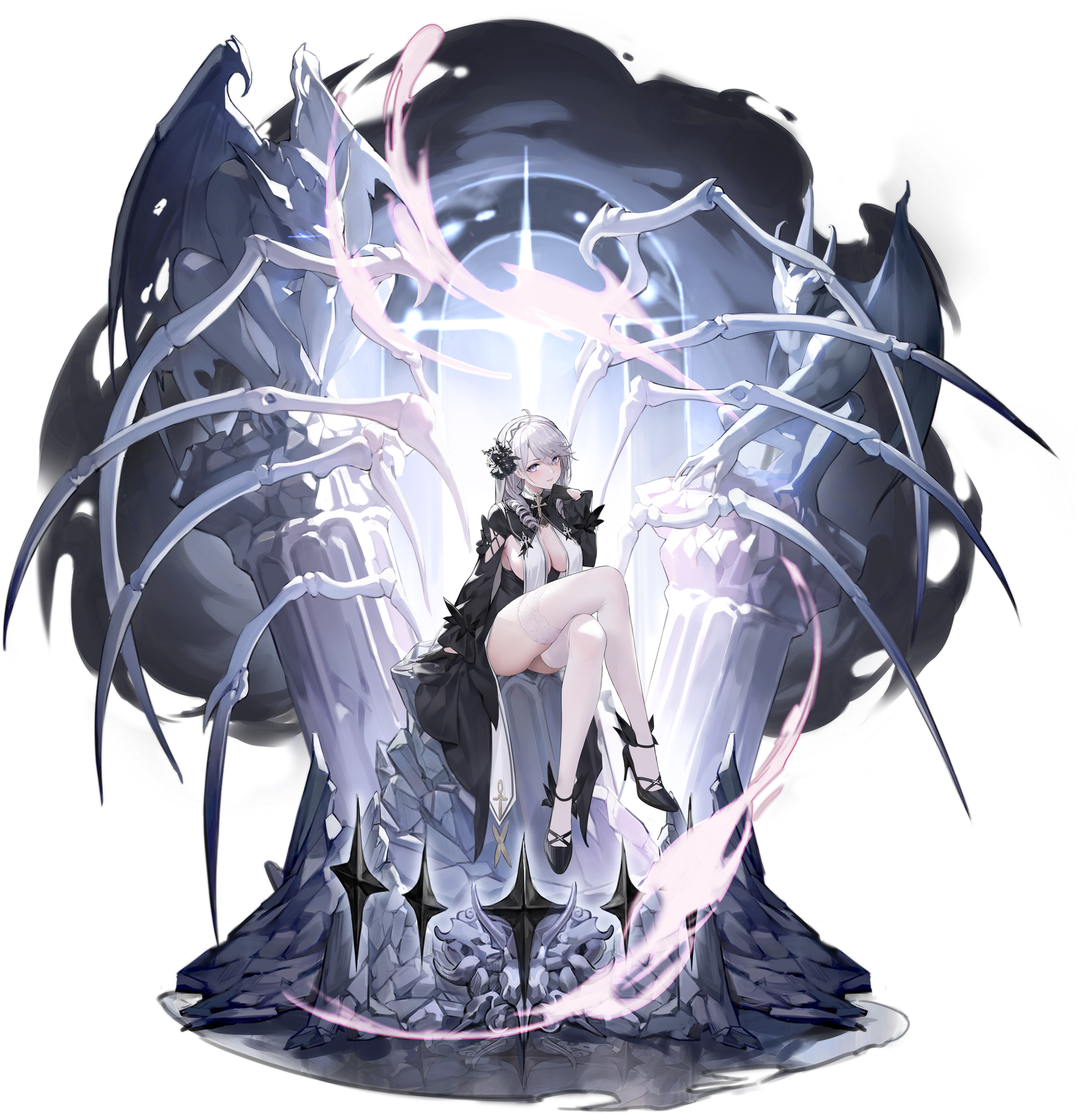person: (1, 2, 500, 1105)
